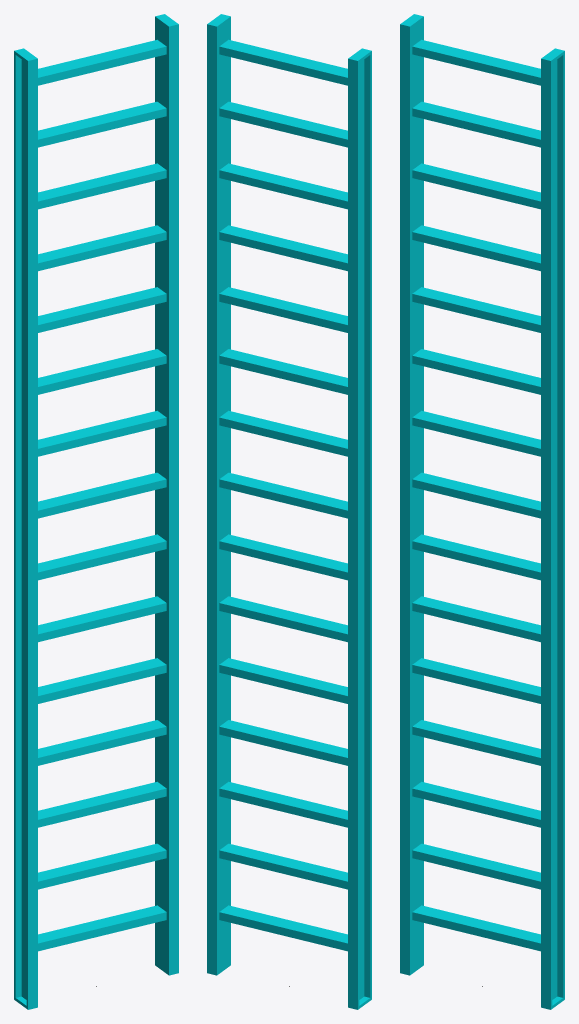
Rendered from ladder_UV_low.fbx.
3 renders of one model, left to right at view 1: azimuth 30°, elevation 25°; view 2: azimuth 150°, elevation 25°; view 3: azimuth 330°, elevation 25°, orthographic.
Parts seen in each view (by area): view 1: ladder1_pCube2; view 2: ladder1_pCube2; view 3: ladder1_pCube2.
Boxes of the visible parts, bbox=[...] form: ladder1_pCube2: bbox=[14, 14, 178, 1009]; ladder1_pCube2: bbox=[207, 14, 371, 1009]; ladder1_pCube2: bbox=[400, 14, 564, 1009].
Size of the model in its own units: 196 by 1181 by 31.59.
